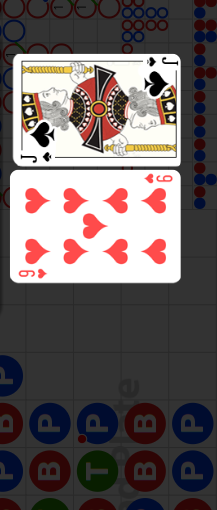9H: (17, 267, 48, 280)
JS: (132, 55, 179, 99), (12, 122, 58, 166)
